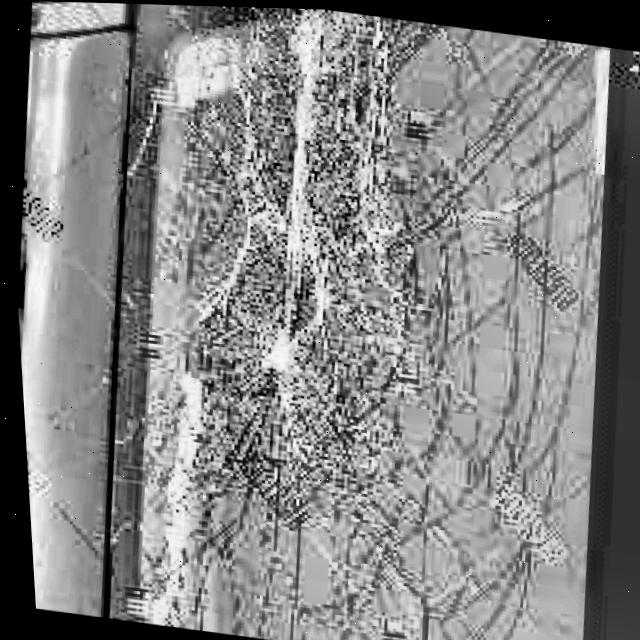glass_shatter: (165, 5, 416, 452)
